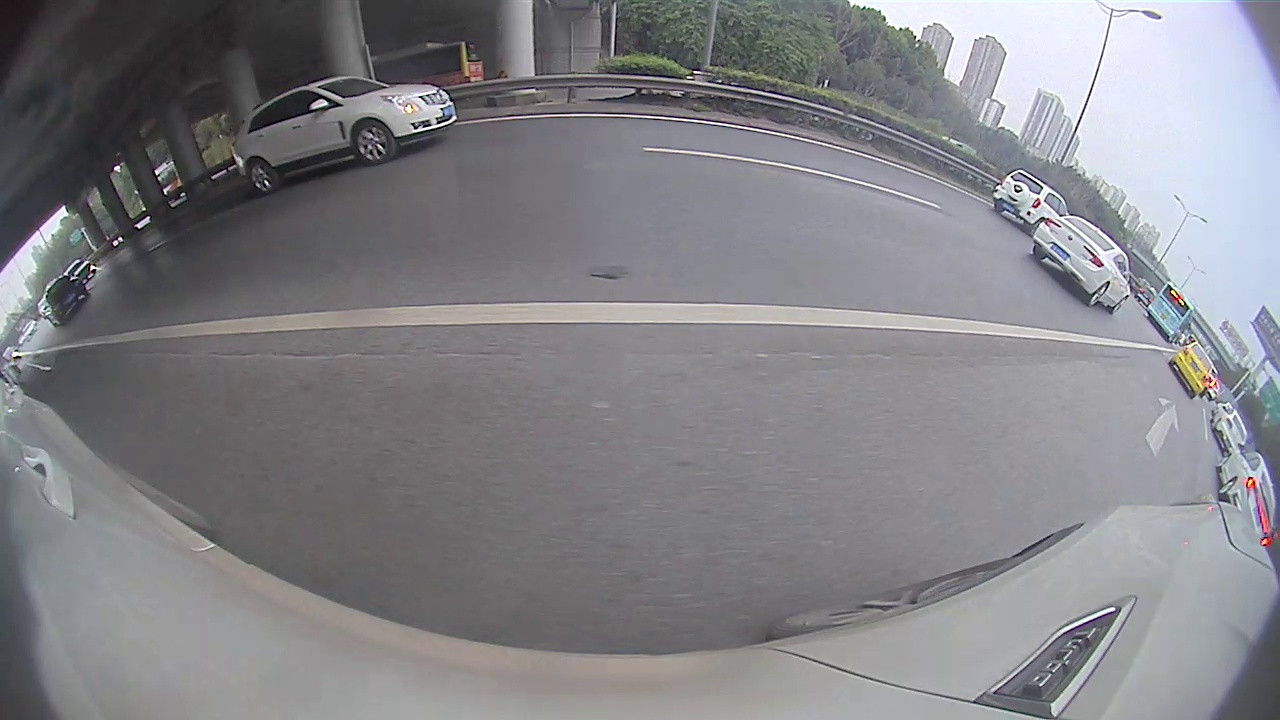bus: (1145, 285, 1192, 340)
car: (233, 76, 457, 194), (1033, 216, 1130, 313), (1214, 449, 1274, 550), (990, 166, 1066, 229), (38, 275, 87, 324), (1172, 342, 1213, 399)
front: (350, 119, 395, 165), (1109, 297, 1129, 314)
rear: (243, 161, 277, 197), (1087, 281, 1110, 306), (1219, 480, 1234, 497)
